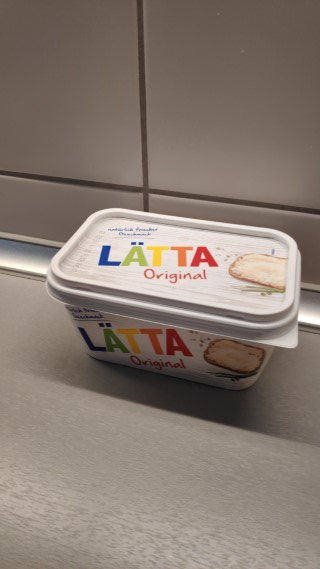laetta: (44, 206, 302, 391)
